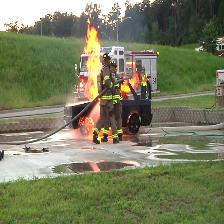fire: (86, 25, 100, 96)
